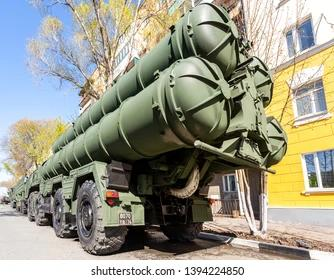MIL_SAM_TEL: (23, 1, 285, 255)
